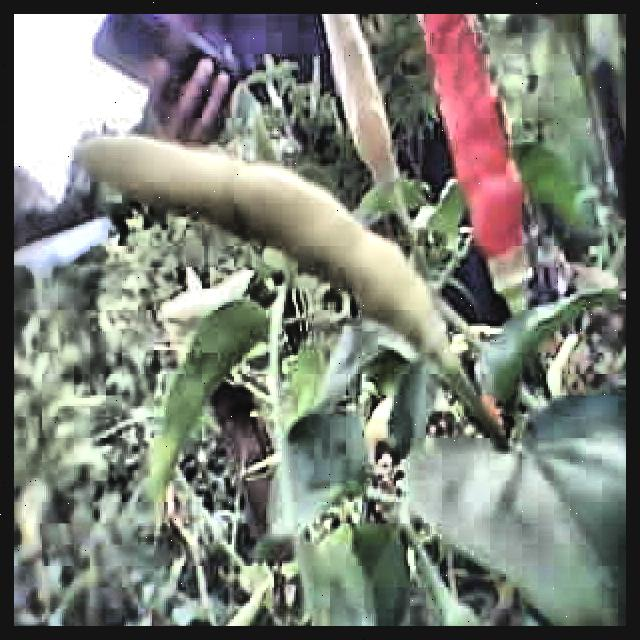Cabai: (406, 14, 565, 276)
